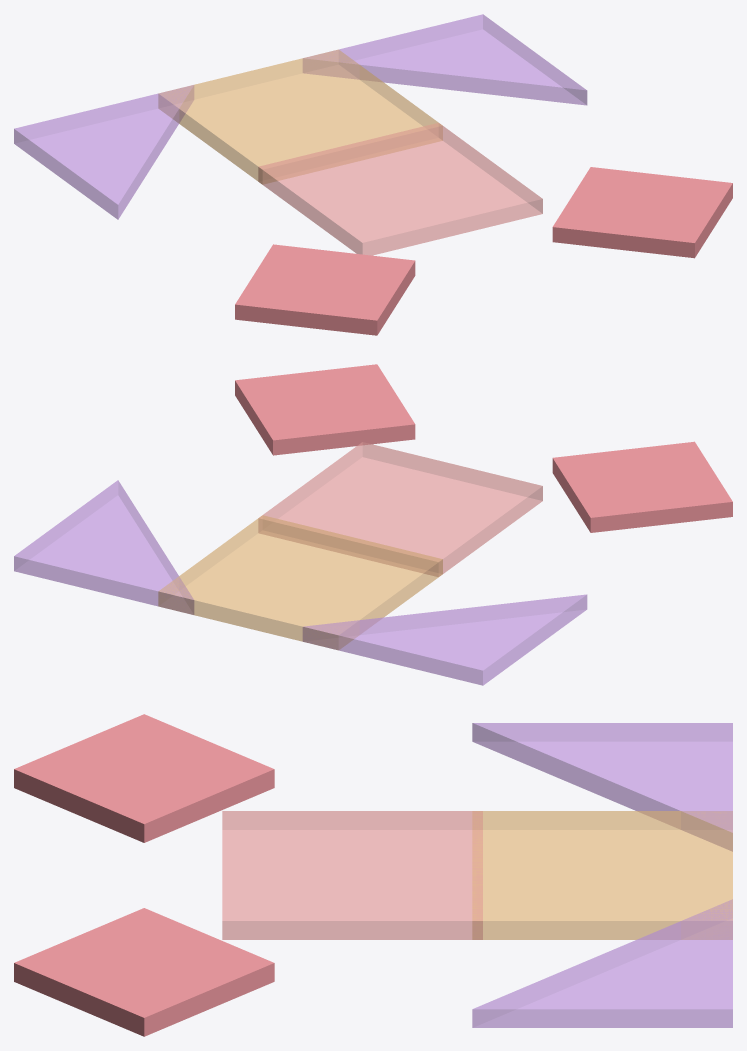
The model's file is macchina_step5.glb.
The picture shows the model from 3 angles, top to bottom: view 1: azimuth 30°, elevation 25°; view 2: azimuth 150°, elevation 25°; view 3: azimuth 270°, elevation 25°; orthographic projection. The views are drawn at different scales.
Parts seen in each view (by area): view 1: quadrato_grande, quadrato_piccolo, triangolo_rettangolo.001, rombo.001, rombo, triangolo_rettangolo; view 2: quadrato_piccolo, quadrato_grande, triangolo_rettangolo, rombo, rombo.001, triangolo_rettangolo.001; view 3: quadrato_grande, quadrato_piccolo, rombo, rombo.001, triangolo_rettangolo.001, triangolo_rettangolo.
Part boxes in pixels (bbox=[...]): quadrato_grande: bbox=[258, 122, 542, 255]; quadrato_piccolo: bbox=[158, 49, 442, 184]; triangolo_rettangolo.001: bbox=[303, 14, 587, 105]; rombo.001: bbox=[552, 167, 732, 258]; rombo: bbox=[235, 244, 415, 335]; triangolo_rettangolo: bbox=[14, 85, 193, 219]; quadrato_piccolo: bbox=[158, 515, 442, 650]; quadrato_grande: bbox=[258, 442, 542, 576]; triangolo_rettangolo: bbox=[302, 594, 587, 685]; rombo: bbox=[552, 441, 732, 532]; rombo.001: bbox=[235, 364, 415, 455]; triangolo_rettangolo.001: bbox=[14, 480, 194, 614]; quadrato_grande: bbox=[222, 811, 482, 939]; quadrato_piccolo: bbox=[472, 811, 732, 939]; rombo: bbox=[14, 714, 274, 842]; rombo.001: bbox=[14, 908, 274, 1036]; triangolo_rettangolo.001: bbox=[472, 899, 732, 1027]; triangolo_rettangolo: bbox=[472, 723, 732, 851].
Bounding box in the file's own units: 2.76 × 0.08 × 2.76.
